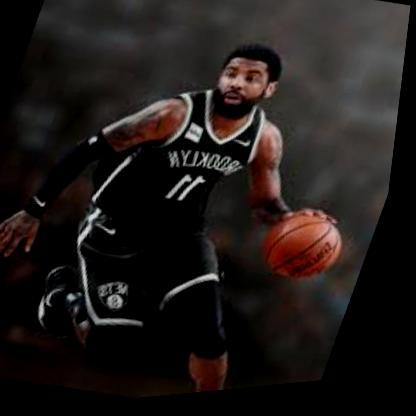basketball: (264, 213, 359, 298)
